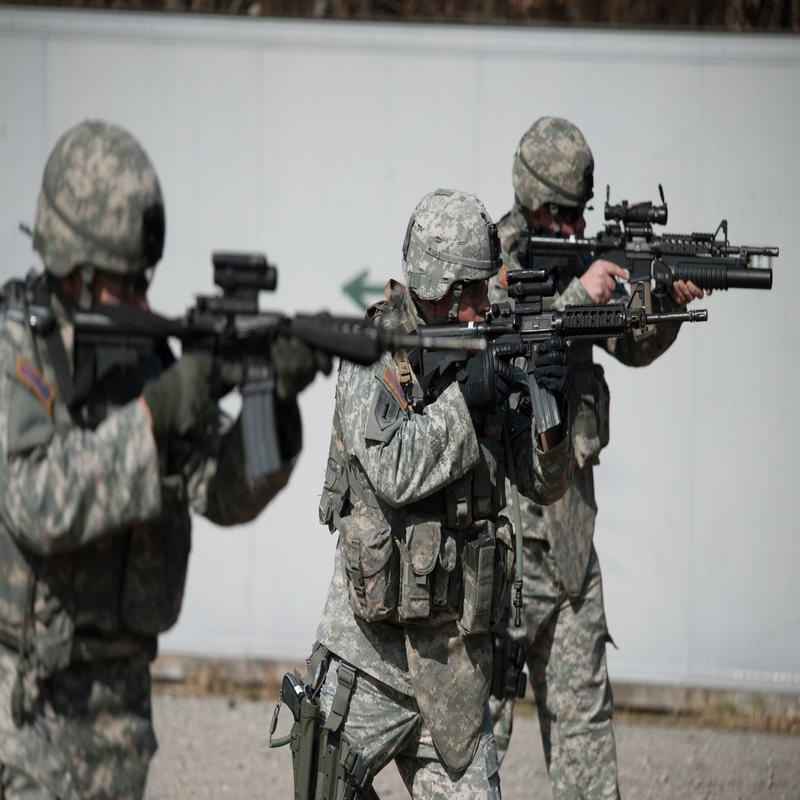GUN: (383, 266, 720, 453), (501, 182, 792, 316)
